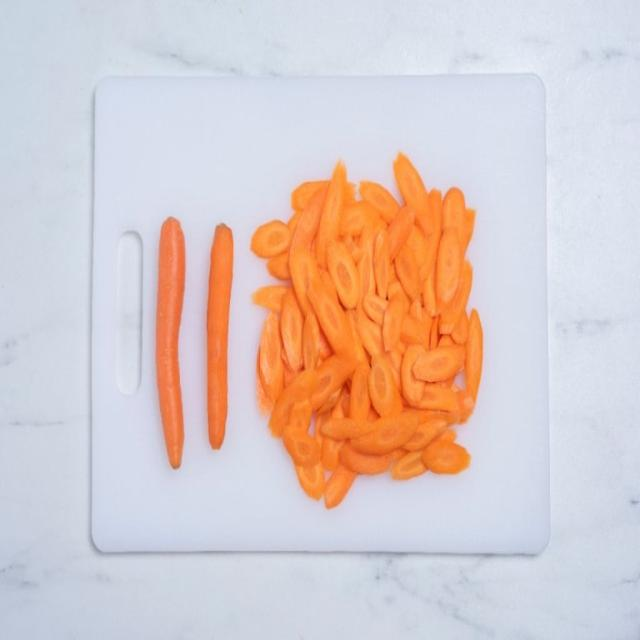Carrot: (158, 216, 188, 475), (211, 223, 237, 471)
